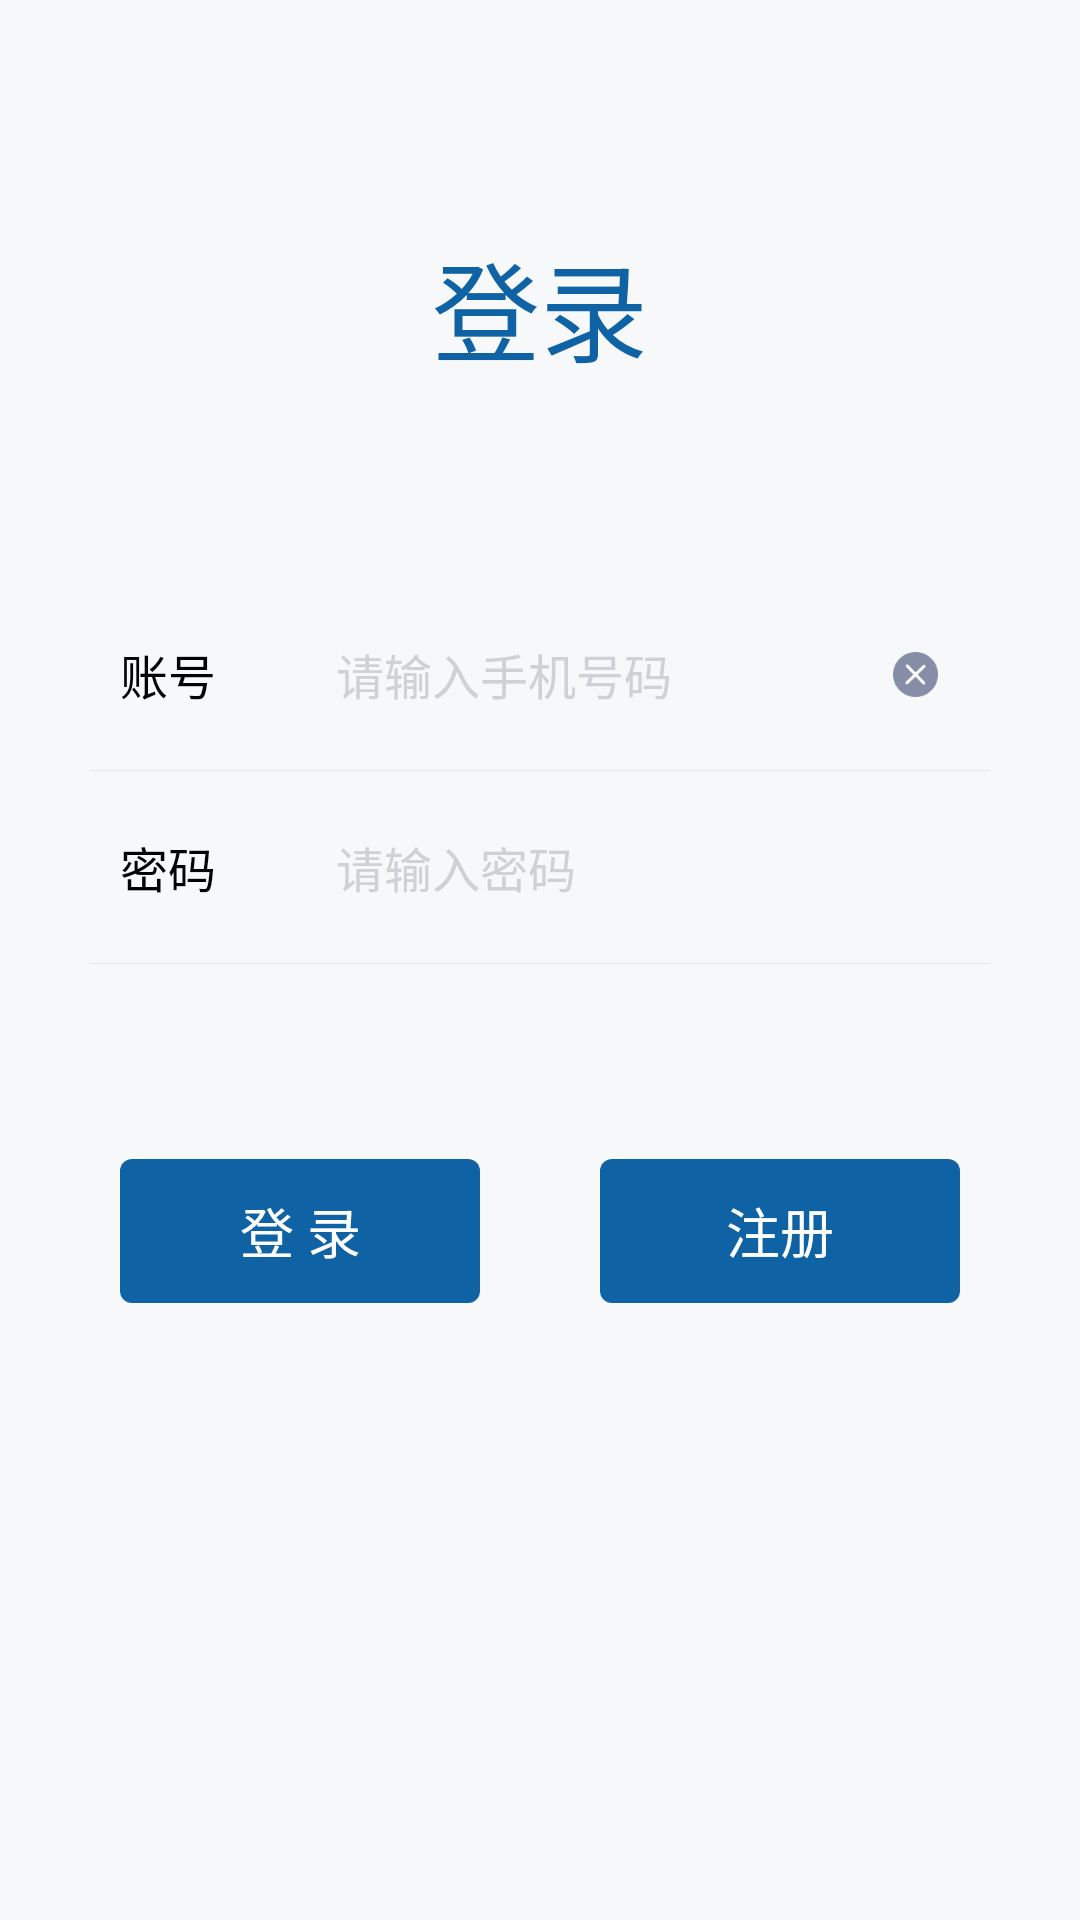

Icons on this 1080*1920 Android screen, each with its box as (x1, y1, x2, y2):
clear: (893, 652, 938, 697)
